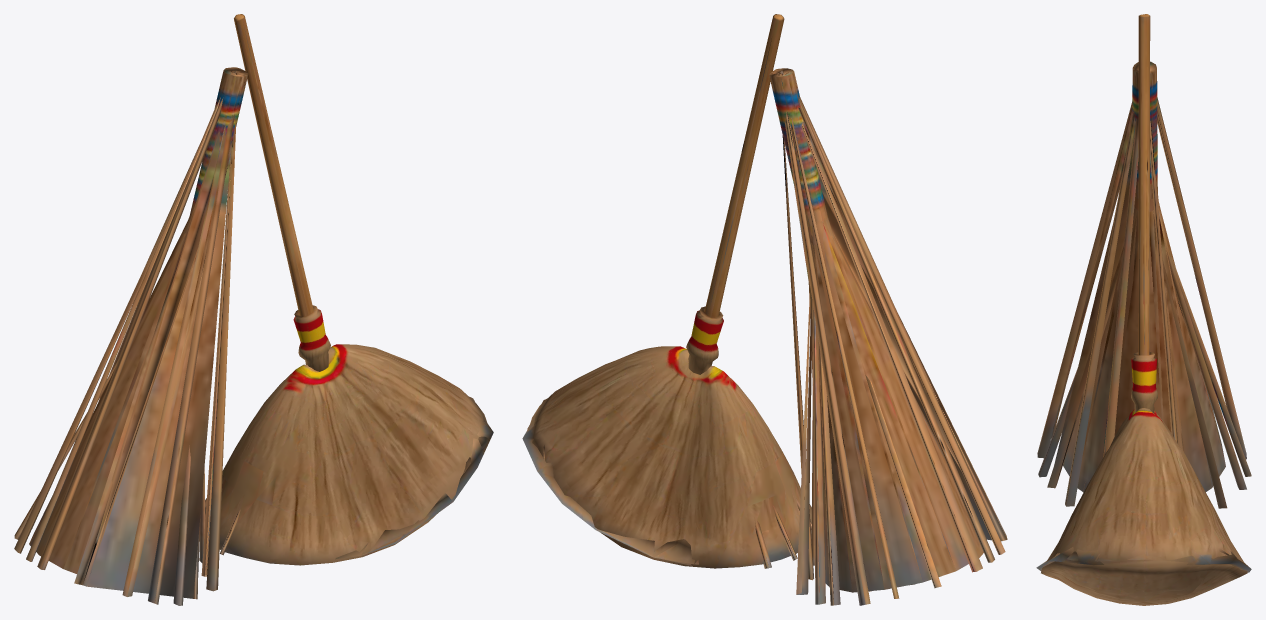
Rendered from walis.glb.
3 renders of one model, left to right at view 1: azimuth 30°, elevation 25°; view 2: azimuth 150°, elevation 25°; view 3: azimuth 270°, elevation 25°, orthographic. The views are drawn at different scales.
Visible parts, largest first — view 1: geometry_0; view 2: geometry_0; view 3: geometry_0.
Part boxes in pixels (box(x1,y1,x2,y2)): geometry_0: box(14, 14, 493, 605); geometry_0: box(522, 14, 1007, 605); geometry_0: box(1036, 14, 1251, 605).
Size of the model in its own units: 0.8636 by 1 by 0.3639.
1 material, 1 textured.
